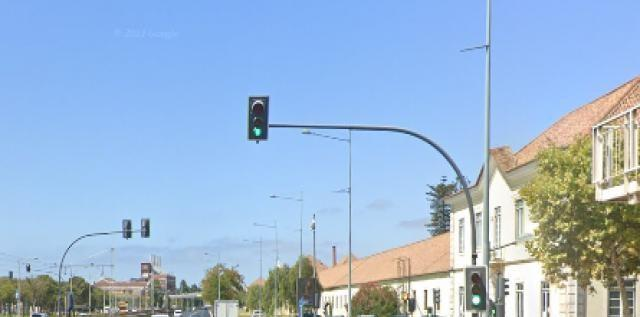green_light: (465, 265, 488, 311), (248, 96, 269, 140)
